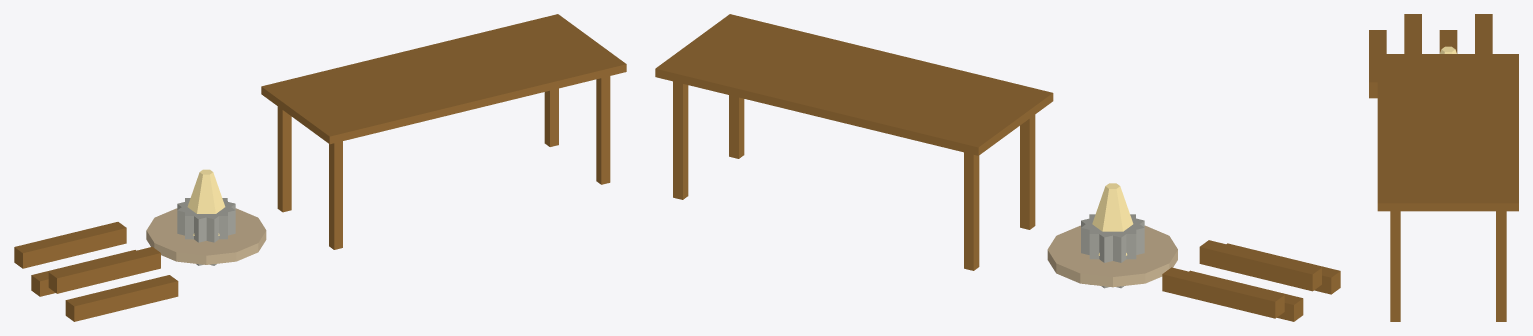
Rendered from SM_CocinaCampana_v1_Lena_LOD0.fbx.
3 renders of one model, left to right at view 1: azimuth 30°, elevation 25°; view 2: azimuth 150°, elevation 25°; view 3: azimuth 270°, elevation 25°, orthographic. The views are drawn at different scales.
Parts seen in each view (by area): view 1: SM_vida_fuerte_v21_LOD0, Emision; view 2: SM_vida_fuerte_v21_LOD0, Emision; view 3: SM_vida_fuerte_v21_LOD0.
Boxes of the visible parts, x1=… form: SM_vida_fuerte_v21_LOD0: x1=14, y1=14, x2=626, y2=321; Emision: x1=146, y1=169, x2=266, y2=264; SM_vida_fuerte_v21_LOD0: x1=655, y1=14, x2=1340, y2=321; Emision: x1=1047, y1=183, x2=1177, y2=287; SM_vida_fuerte_v21_LOD0: x1=1369, y1=14, x2=1518, y2=321.
Bounding box in the file's own units: 3.75 × 0.775 × 0.85.
